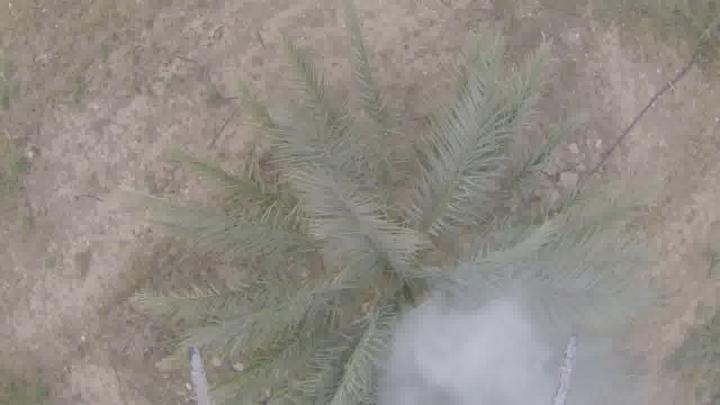Date-Palm-Crown: (253, 145, 565, 398)
